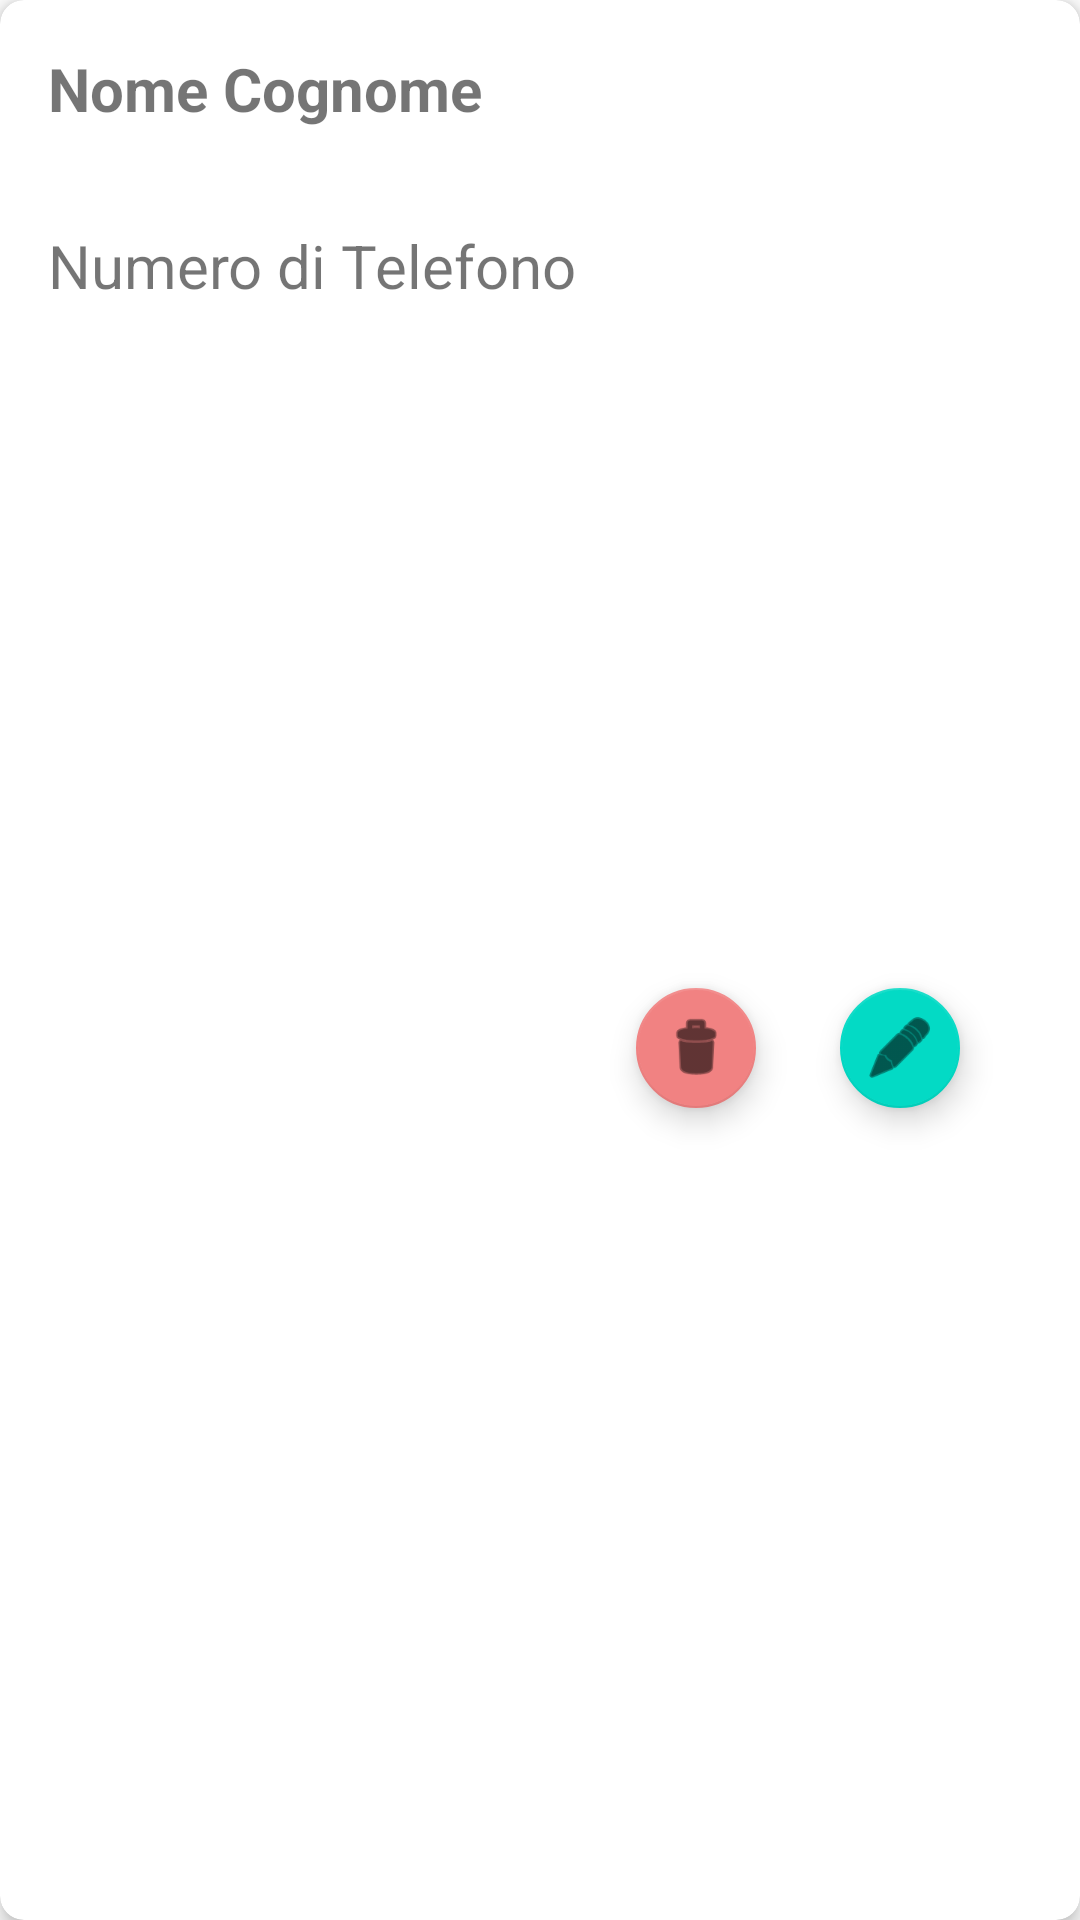

Named icons in this screenshot (1080px x 1920px) and their centers, (x,y):
edit: (901,1051)
Elimina: (696,1051)
